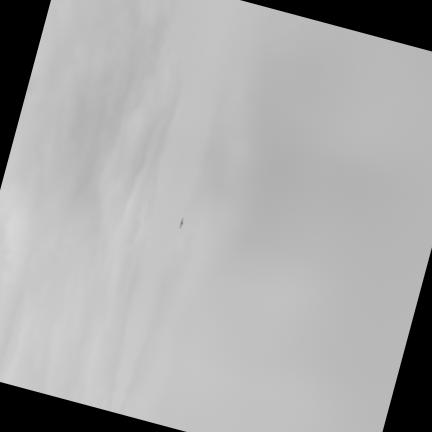Shahed: (179, 217, 183, 227)
